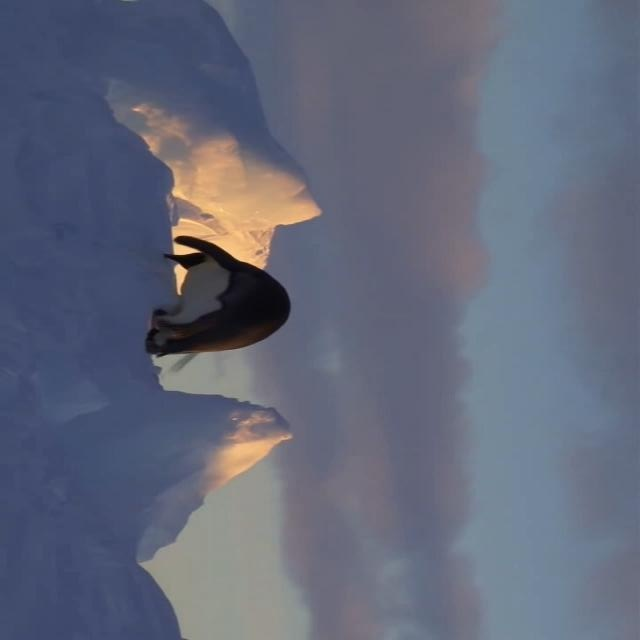penguin: (146, 233, 291, 372)
